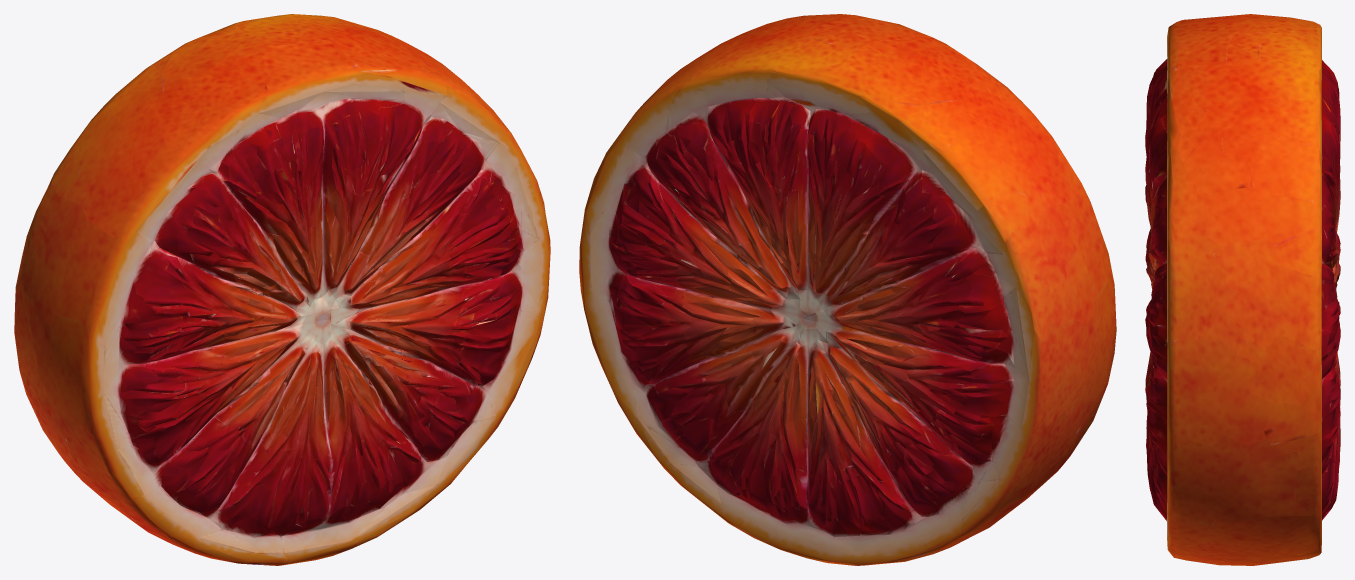
Rendered from fruit-bloodorange.glb.
3 views of the same model, side by side, from view 1: azimuth 30°, elevation 25°; view 2: azimuth 150°, elevation 25°; view 3: azimuth 270°, elevation 25° (orthographic).
Size of the model in its own units: 1.89 by 1.89 by 0.6711.
1 material, 1 textured.
